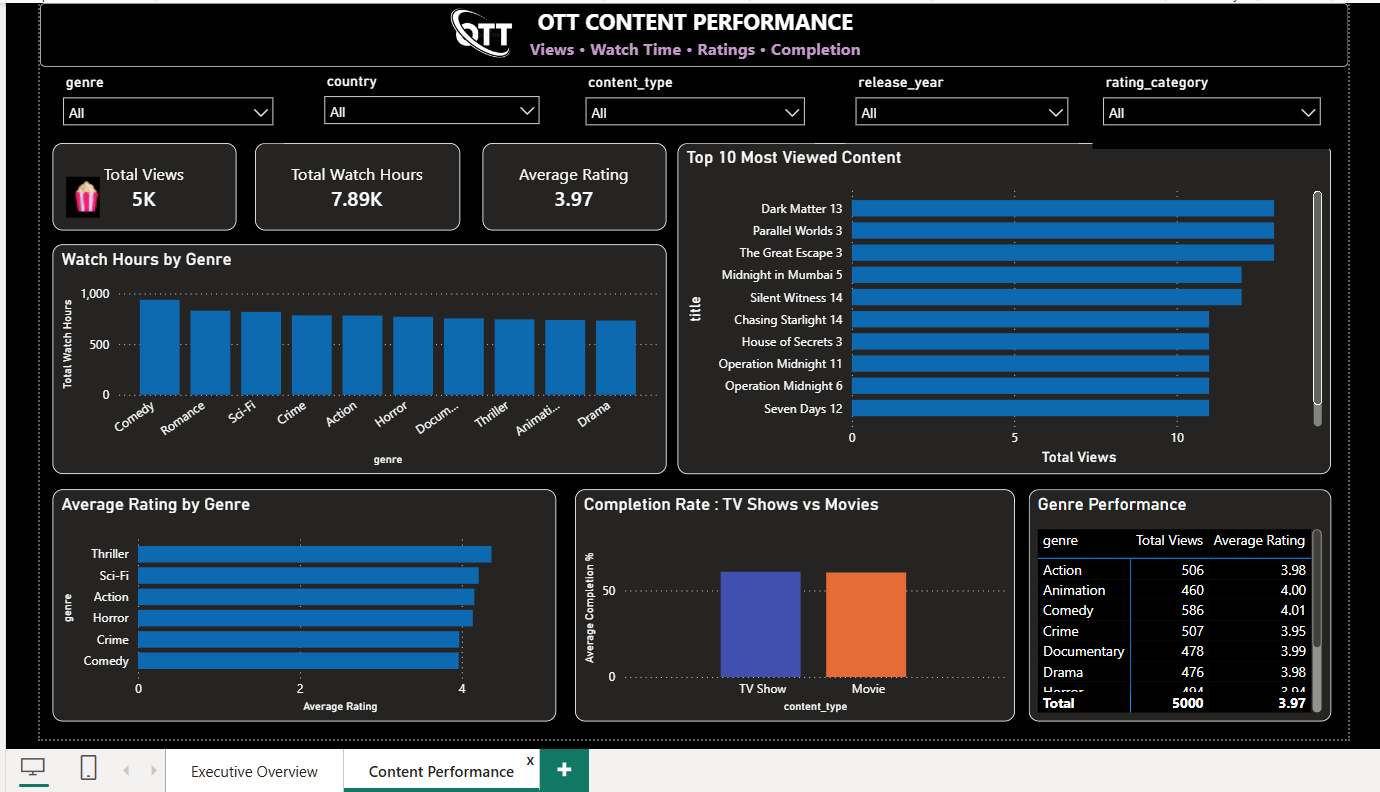

This screenshot's page, from the dashboard's own definition file:
{"tool":"powerbi","page":{"name":"Content Performance","canvas":[1280,720],"ordinal":1},"visuals":[{"type":"textbox","title":"OTT CONTENT PERFORMANCE","box":[0,0,1280.3,62.4],"z":0,"group":"g1"},{"type":"cardVisual","fields":{"Data":["Table.Total Views"]},"box":[12.2,137,179.8,85.6],"z":1,"group":"g3"},{"type":"cardVisual","fields":{"Data":["Table.Total Watch Hours"]},"box":[210.3,137,200.5,85.6],"z":2},{"type":"cardVisual","fields":{"Data":["Table.Average Rating"]},"box":[432.9,137,179.8,85.6],"z":3,"group":"g2"},{"type":"clusteredColumnChart","title":"Watch Hours by Genre","fields":{"Category":["Content.genre"],"Y":["Table.Total Watch Hours"]},"box":[12.2,236,600.4,225],"z":4},{"type":"clusteredBarChart","title":" Top 10 Most Viewed Content","fields":{"Category":["Content.title"],"Y":["Table.Total Views"]},"box":[623.6,137,639.5,324.1],"z":5},{"type":"clusteredBarChart","title":"Average Rating by Genre","fields":{"Y":["Table.Average Rating"],"Category":["Content.genre"]},"box":[12.2,475.7,492.8,227.4],"z":6},{"type":"clusteredColumnChart","title":"Completion Rate : TV Shows vs Movies","fields":{"Y":["Table.Average Completion %"],"Category":["Content.content_type"]},"box":[523.4,475.7,430.4,227.4],"z":7},{"type":"slicer","fields":{"Values":["Content.genre"]},"box":[12.2,63.6,226.2,73.4],"z":9},{"type":"slicer","fields":{"Values":["Content.country"]},"box":[267.8,62.4,231.1,73.4],"z":10},{"type":"slicer","fields":{"Values":["Content.content_type"]},"box":[523.4,63.6,234.8,73.4],"z":11},{"type":"slicer","fields":{"Values":["Content.release_year"]},"box":[787.5,63.6,228.7,73.4],"z":12},{"type":"slicer","fields":{"Values":["Content.rating_category"]},"box":[1029.6,63.6,233.6,79.5],"z":13},{"type":"pivotTable","title":"Genre Performance","fields":{"Rows":["Content.genre"],"Values":["Table.Total Views","Table.Average Rating"]},"box":[967.3,475.7,295.9,227.4],"z":14},{"type":"image","box":[397.4,3.7,69.7,53.8],"z":16003,"group":"g1"},{"type":"group","id":"g1","title":"Group 1","box":[0,0,1280.3,62.4],"z":16004},{"type":"group","id":"g2","title":"Group 2","box":[432.9,137,179.8,85.6],"z":16006,"group":"g4"},{"type":"image","box":[23.2,170,37.9,40.4],"z":16006,"group":"g3"},{"type":"image","box":[438,176.2,37.9,29.3],"z":16006,"group":"g4"},{"type":"group","id":"g3","title":"Group 3","box":[12.2,137,179.8,85.6],"z":16007},{"type":"group","id":"g4","title":"Group 4","box":[432.9,137,179.8,85.6],"z":16008}]}

Visuals, with their boxes on the page's 1280x720 design canvas (x1, y1, x2, y2). These are canvas units, not pixel positions in the 1380x792 screenshot, which may show the page scaled, cropped or inside an application window:
"OTT CONTENT PERFORMANCE" textbox: x1=0 y1=0 x2=1280 y2=62
cardVisual - Table.Total Views: x1=12 y1=137 x2=192 y2=223
cardVisual - Table.Total Watch Hours: x1=210 y1=137 x2=411 y2=223
cardVisual - Table.Average Rating: x1=433 y1=137 x2=613 y2=223
"Watch Hours by Genre" clusteredColumnChart: x1=12 y1=236 x2=613 y2=461
" Top 10 Most Viewed Content" clusteredBarChart: x1=624 y1=137 x2=1263 y2=461
"Average Rating by Genre" clusteredBarChart: x1=12 y1=476 x2=505 y2=703
"Completion Rate : TV Shows vs Movies" clusteredColumnChart: x1=523 y1=476 x2=954 y2=703
slicer - Content.genre: x1=12 y1=64 x2=238 y2=137
slicer - Content.country: x1=268 y1=62 x2=499 y2=136
slicer - Content.content_type: x1=523 y1=64 x2=758 y2=137
slicer - Content.release_year: x1=788 y1=64 x2=1016 y2=137
slicer - Content.rating_category: x1=1030 y1=64 x2=1263 y2=143
"Genre Performance" pivotTable: x1=967 y1=476 x2=1263 y2=703
image: x1=397 y1=4 x2=467 y2=58
"Group 1" group: x1=0 y1=0 x2=1280 y2=62
"Group 2" group: x1=433 y1=137 x2=613 y2=223
image: x1=23 y1=170 x2=61 y2=210
image: x1=438 y1=176 x2=476 y2=206
"Group 3" group: x1=12 y1=137 x2=192 y2=223
"Group 4" group: x1=433 y1=137 x2=613 y2=223
